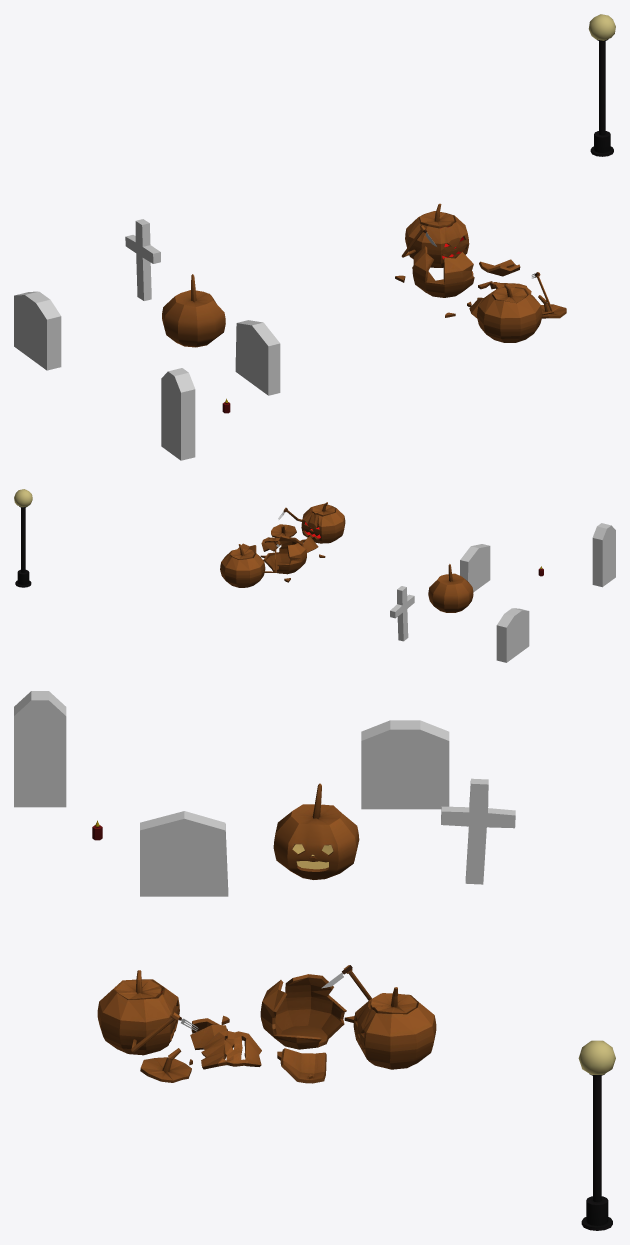
File: tasty pumpkin.fbx
The picture shows the model from 3 angles, top to bottom: view 1: azimuth 30°, elevation 25°; view 2: azimuth 150°, elevation 25°; view 3: azimuth 270°, elevation 25°; orthographic projection. The views are drawn at different scales.
Parts seen in each view (by area): view 1: pumpkin_element_pumpkin_0, grave.005_grave_stone_0, pumpkin_scared_pumpkin_0, grave.003_grave_stone_0, grave.004_grave_stone_0, street lamp_street lamp_1, grave.009_grave_cross_0; view 2: pumpkin_element_pumpkin_0, grave.005_grave_stone_0, pumpkin_scared_pumpkin_0, grave.003_grave_stone_0, grave.004_grave_stone_0, street lamp_street lamp_1, grave.009_grave_cross_0; view 3: pumpkin_element_pumpkin_0, grave.005_grave_stone_0, grave.004_grave_stone_0, grave.003_grave_stone_0, pumpkin_scared_pumpkin_0, grave.009_grave_cross_0, street lamp_street lamp_1.
Part boxes in pixels (<box>): pumpkin_element_pumpkin_0: <box>395,203,566,342</box>; grave.005_grave_stone_0: <box>14,291,61,370</box>; pumpkin_scared_pumpkin_0: <box>162,274,225,347</box>; grave.003_grave_stone_0: <box>161,368,195,460</box>; grave.004_grave_stone_0: <box>235,320,280,395</box>; street lamp_street lamp_1: <box>588,14,615,156</box>; grave.009_grave_cross_0: <box>125,219,160,300</box>; pumpkin_element_pumpkin_0: <box>220,502,345,587</box>; grave.005_grave_stone_0: <box>496,608,529,662</box>; pumpkin_scared_pumpkin_0: <box>428,564,473,612</box>; grave.003_grave_stone_0: <box>592,523,615,587</box>; grave.004_grave_stone_0: <box>460,544,490,592</box>; street lamp_street lamp_1: <box>14,489,32,587</box>; grave.009_grave_cross_0: <box>390,586,414,641</box>; pumpkin_element_pumpkin_0: <box>97,965,436,1083</box>; grave.005_grave_stone_0: <box>361,720,449,809</box>; grave.004_grave_stone_0: <box>140,811,228,896</box>; grave.003_grave_stone_0: <box>14,691,66,807</box>; pumpkin_scared_pumpkin_0: <box>273,783,359,879</box>; grave.009_grave_cross_0: <box>441,778,515,884</box>; street lamp_street lamp_1: <box>578,1040,615,1230</box>.
Bounding box in the file's own units: 2296 × 458 × 1365.
